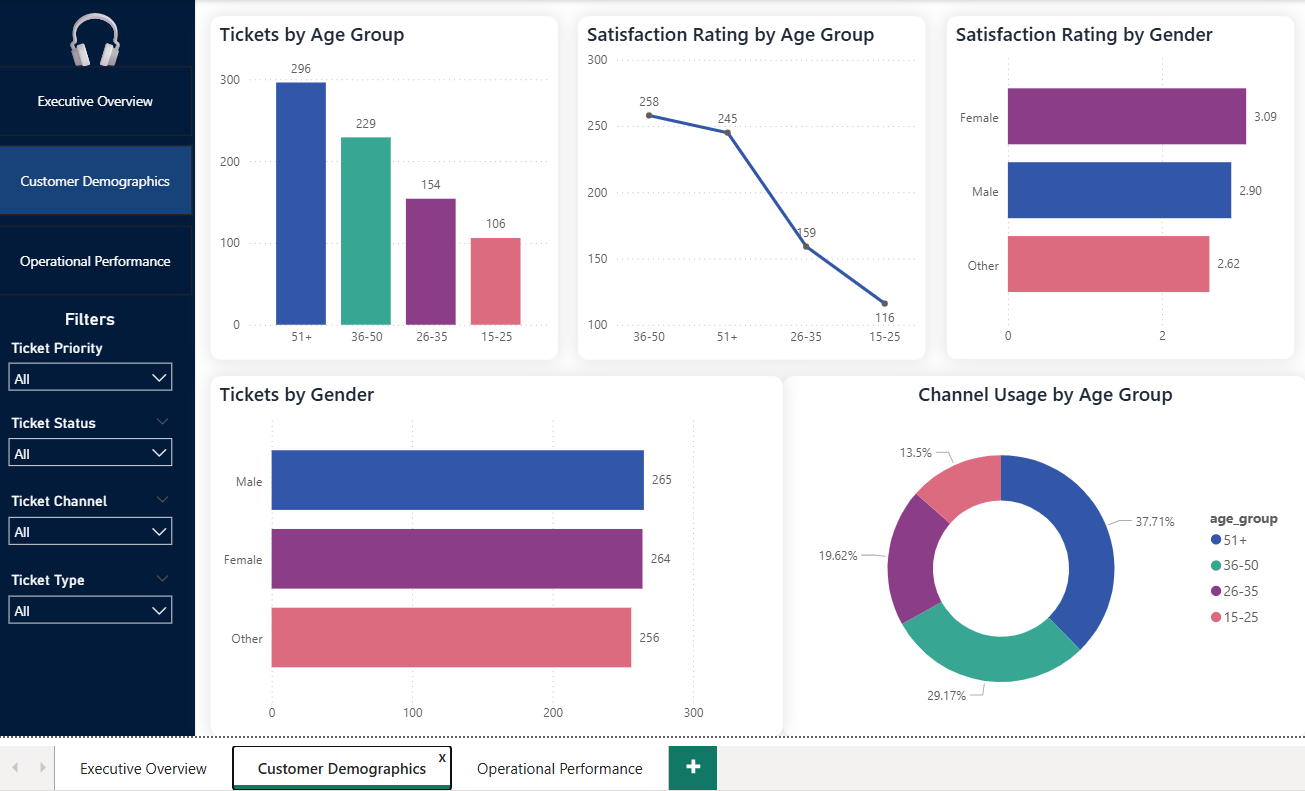

This screenshot's page, from the dashboard's own definition file:
{"tool":"powerbi","page":{"name":"Customer Demographics","canvas":[1280,720],"ordinal":1},"visuals":[{"type":"clusteredColumnChart","title":"Tickets by Age Group","fields":{"Category":["clean_customer_tickets.age_group"],"Y":["CountNonNull(clean_customer_tickets.Ticket ID)"]},"box":[208,16,340,336],"z":0,"group":"g1"},{"type":"shape","box":[0,0,192.9,720],"z":1000},{"type":"lineChart","title":"Satisfaction Rating by Age Group","fields":{"Category":["clean_customer_tickets.age_group"],"Y":["Sum(clean_customer_tickets.Customer Satisfaction Rating)"]},"box":[568,16,340,336],"z":1000,"group":"g1"},{"type":"clusteredBarChart","title":"Satisfaction Rating by Gender","fields":{"Y":["Avg(clean_customer_tickets.Customer Satisfaction Rating)"],"Category":["clean_customer_tickets.Customer Gender"]},"box":[928,16,340,335],"z":2000,"group":"g1"},{"type":"slicer","title":"Filters","fields":{"Values":["clean_customer_tickets.Ticket Priority"]},"box":[0,301.4,180,98.6],"z":2000},{"type":"donutChart","title":"Channel Usage by Age Group","fields":{"Category":["clean_customer_tickets.age_group"],"Y":["CountNonNull(clean_customer_tickets.Ticket Channel)"]},"box":[768,368,512,352],"z":3000,"group":"g2"},{"type":"slicer","title":"Filters","fields":{"Values":["clean_customer_tickets.Ticket Status"]},"box":[0,400,180,77.1],"z":3000},{"type":"clusteredBarChart","title":"Tickets by Gender","fields":{"Category":["clean_customer_tickets.Customer Gender"],"Y":["CountNonNull(clean_customer_tickets.Ticket ID)"]},"box":[208,368,560,352],"z":4000,"group":"g2"},{"type":"slicer","title":"Filters","fields":{"Values":["clean_customer_tickets.Ticket Channel"]},"box":[0,477.1,180,77.1],"z":4000},{"type":"slicer","title":"Filters","fields":{"Values":["clean_customer_tickets.Ticket Type"]},"box":[0,554.3,180,77.1],"z":5000},{"type":"pageNavigator","title":"🎧","box":[0,0,190,288.6],"z":6000},{"type":"group","id":"g1","title":"Group 1","box":[208,16,1060,336],"z":7000},{"type":"group","id":"g2","title":"Group 2","box":[208,368,1072,352],"z":8000}]}

Visuals, with their boxes on the page's 1280x720 design canvas (x1, y1, x2, y2). These are canvas units, not pixel positions in the 1305x791 screenshot, which may show the page scaled, cropped or inside an application window:
"Tickets by Age Group" clusteredColumnChart: select_region(208, 16, 548, 352)
shape: select_region(0, 0, 193, 720)
"Satisfaction Rating by Age Group" lineChart: select_region(568, 16, 908, 352)
"Satisfaction Rating by Gender" clusteredBarChart: select_region(928, 16, 1268, 351)
"Filters" slicer: select_region(0, 301, 180, 400)
"Channel Usage by Age Group" donutChart: select_region(768, 368, 1280, 720)
"Filters" slicer: select_region(0, 400, 180, 477)
"Tickets by Gender" clusteredBarChart: select_region(208, 368, 768, 720)
"Filters" slicer: select_region(0, 477, 180, 554)
"Filters" slicer: select_region(0, 554, 180, 631)
"🎧" pageNavigator: select_region(0, 0, 190, 289)
"Group 1" group: select_region(208, 16, 1268, 352)
"Group 2" group: select_region(208, 368, 1280, 720)
